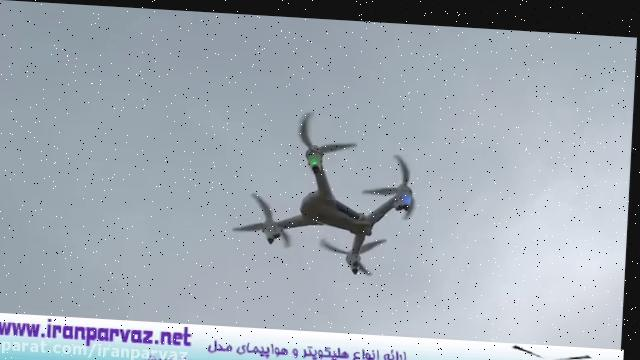drone: (231, 101, 423, 274)
